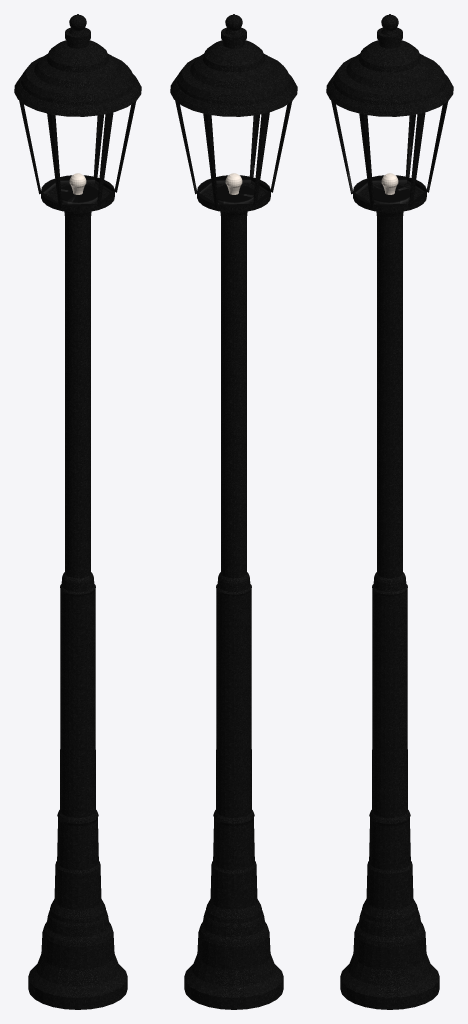
Rendered from street_lamp.glb.
3 views of the same model, side by side, from view 1: azimuth 30°, elevation 25°; view 2: azimuth 210°, elevation 25°; view 3: azimuth 270°, elevation 25° (orthographic).
Visible parts, largest first — view 1: Component_; view 2: Component_; view 3: Component_.
Boxes of the visible parts, bbox=[...] form: Component_: bbox=[14, 14, 141, 1009]; Component_: bbox=[170, 14, 297, 1009]; Component_: bbox=[326, 14, 453, 1009].
Bounding box in the file's own units: 0.5823 × 4.91 × 0.5823.
Materials: 4 (2 with a texture image).
